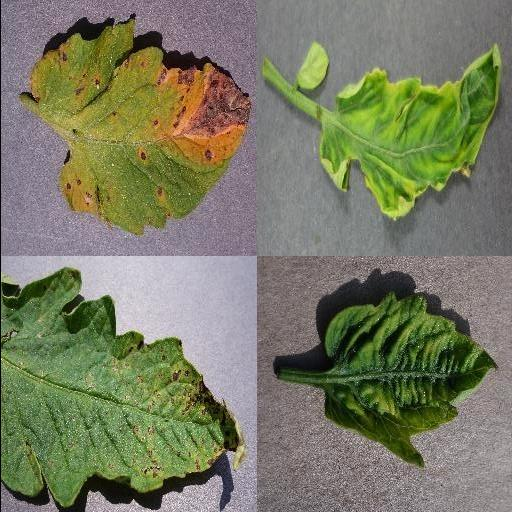Septoria: (0, 269, 245, 507), (31, 19, 251, 238)
Yellow Leaf Curl Virus: (317, 44, 501, 220), (322, 290, 498, 470)
